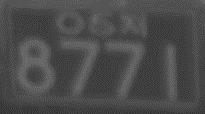0: (55, 9, 85, 37)
1: (154, 41, 188, 104)
6: (88, 9, 116, 39)
7: (59, 36, 101, 99), (104, 39, 146, 101)
8: (16, 36, 57, 96)
저: (118, 9, 148, 39)
